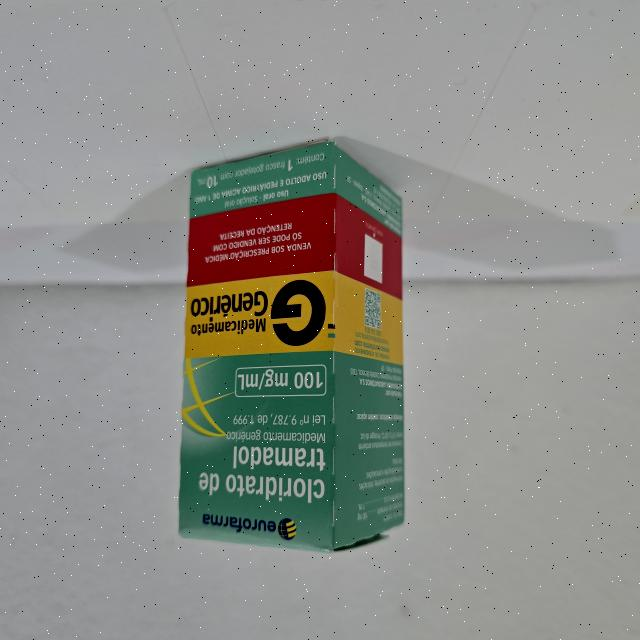tramadol: (176, 136, 410, 557)
